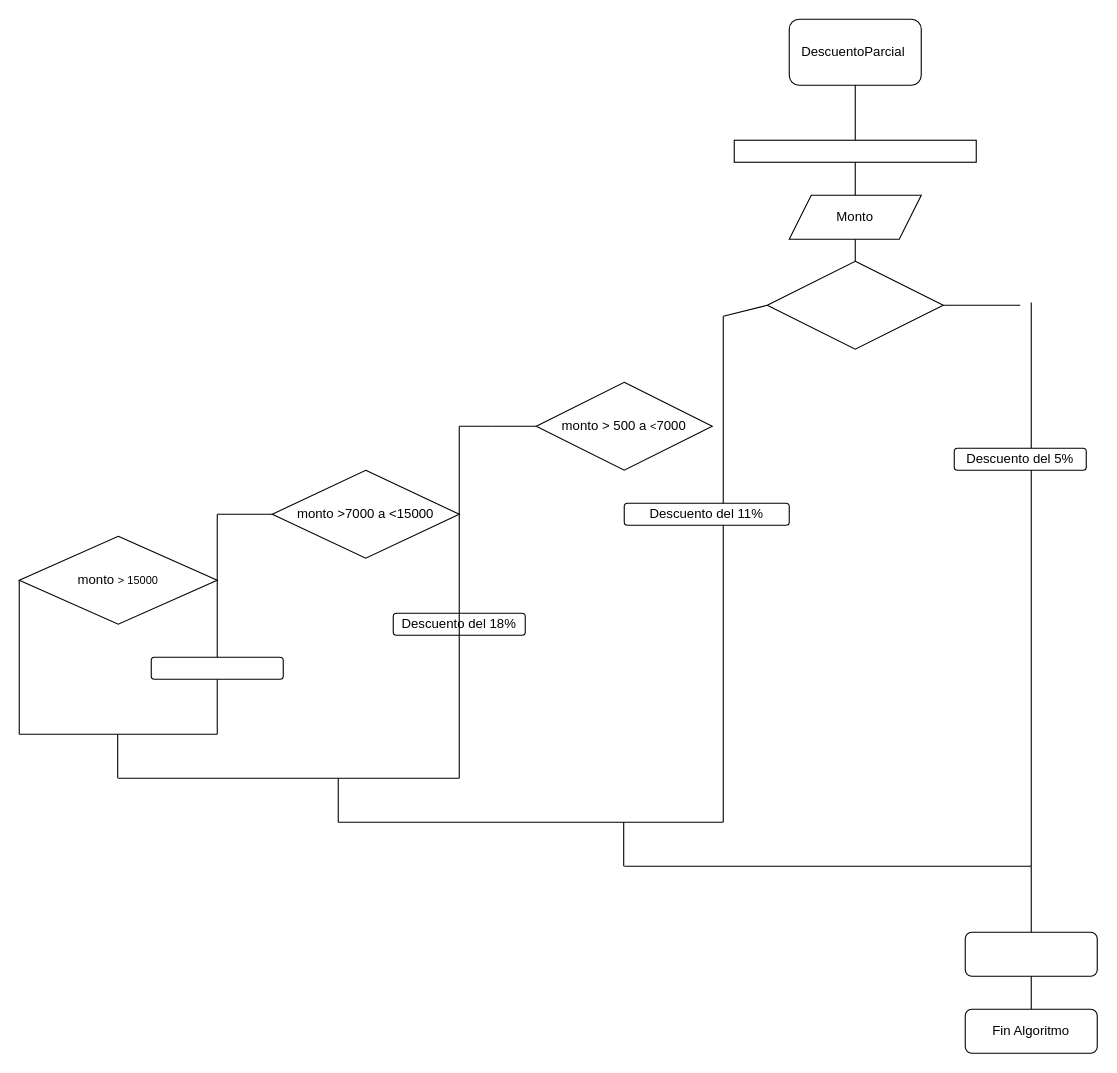
The diagram is 1117 pixels wide and 1073 high, and some of its shapes have lost their labels. The centre of each missing label's shape, as x and y in pixels:
Descuento Aplicado: (x=1030, y=953)
Descuento del 25%: (x=216, y=667)
Ingrese el monto de su Compra: (x=854, y=150)
monto < 500: (x=854, y=304)
